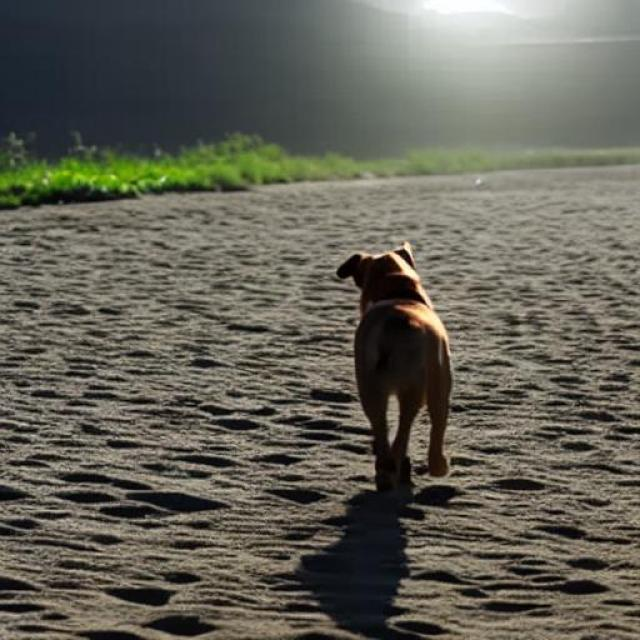Dog: (337, 241, 452, 481)
